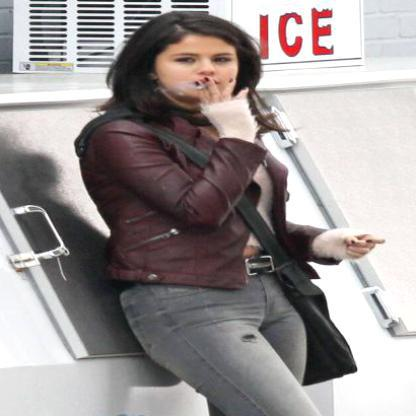person: (76, 9, 333, 415)
